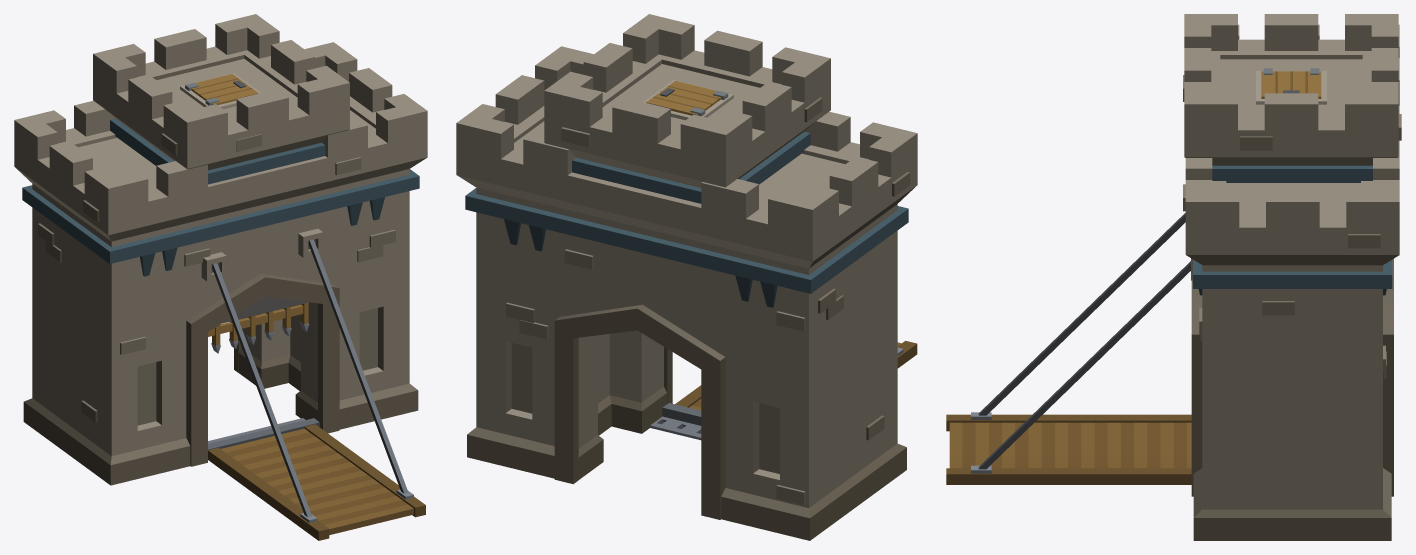
File: SF_Bld_Castle_Gate.fbx
3 renders of one model, left to right at view 1: azimuth 30°, elevation 25°; view 2: azimuth 150°, elevation 25°; view 3: azimuth 270°, elevation 25°, orthographic. The views are drawn at different scales.
Visible parts, largest first — view 1: SF_Bld_Castle_Gate_01, SF_Bld_Castle_Gate; view 2: SF_Bld_Castle_Gate_01; view 3: SF_Bld_Castle_Gate_01.
Part boxes in pixels (bbox=[...]): SF_Bld_Castle_Gate_01: bbox=[14, 14, 427, 540]; SF_Bld_Castle_Gate: bbox=[208, 302, 309, 353]; SF_Bld_Castle_Gate_01: bbox=[456, 14, 917, 540]; SF_Bld_Castle_Gate_01: bbox=[946, 14, 1401, 540].
Size of the model in its own units: 16.31 by 16.75 by 17.43.
